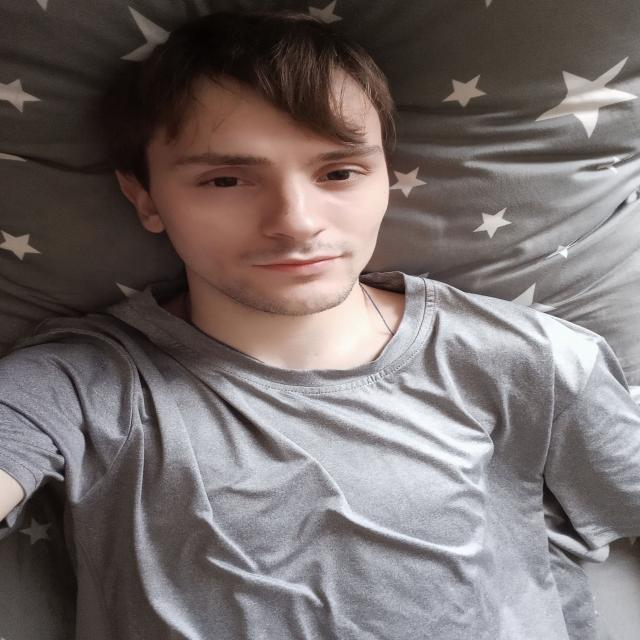earlobe: (114, 168, 166, 235)
